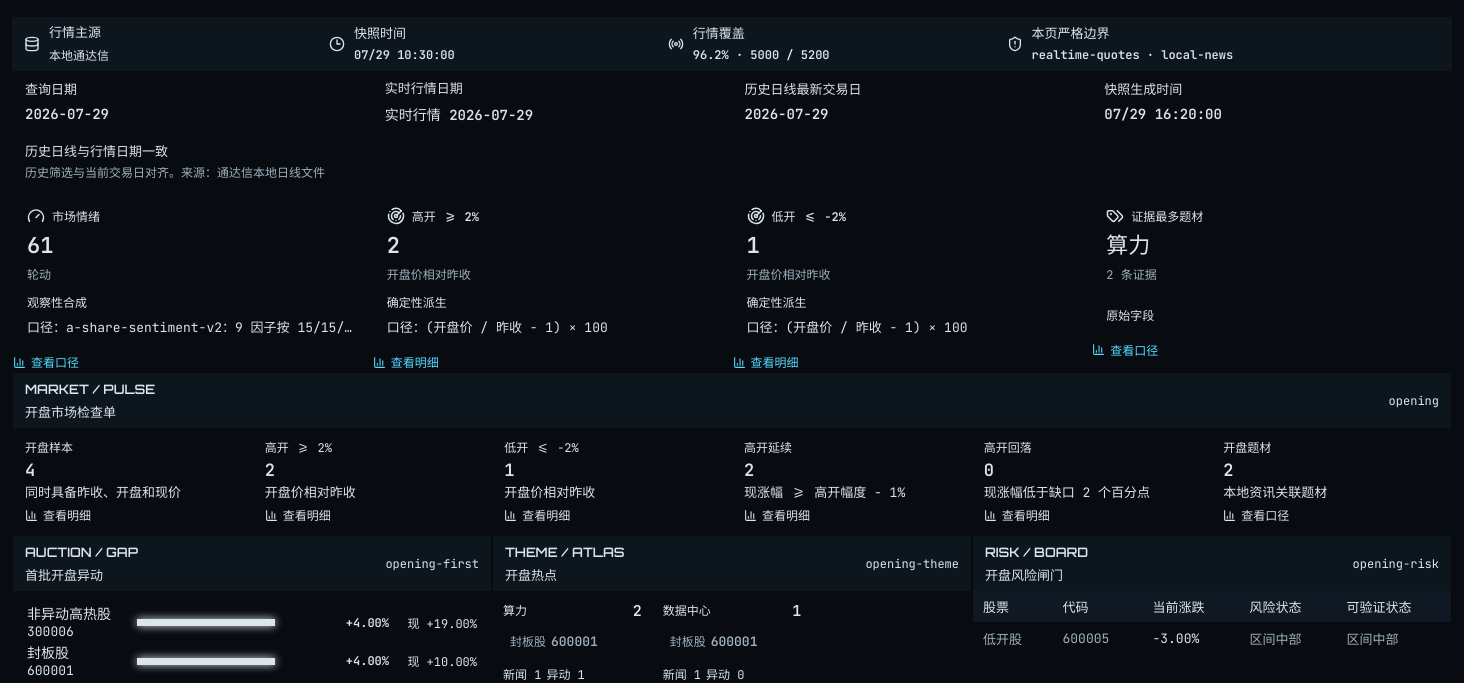
Scenario: DistinctMarketWorkspace › drills opening metrics into the exact representative-stock filter
The width and height of the screenshot is (1464, 683).
Click the button with aria-label "筛选：高开 >= 2% 2" at {"x": 373, "y": 481}, box [265,438,480,524]
(page scrolled)
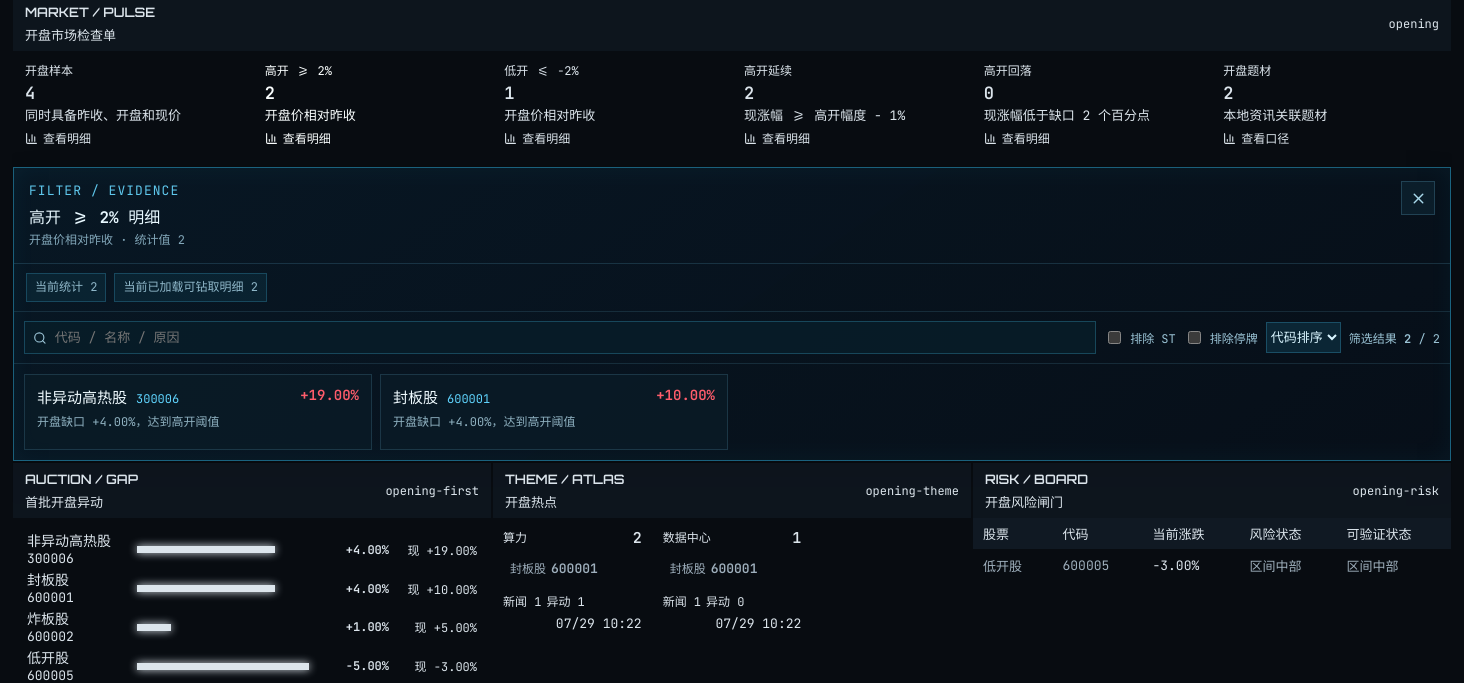
Expected: the element "高开 >= 2% 明细" does not show "低开股", [13,167,1451,461]
Expected: the element "高开 >= 2% 明细" shows "封板股", [393,388,438,408]
Expected: the element "高开 >= 2% 明细" shows "非异动高热股", [37,388,127,408]
